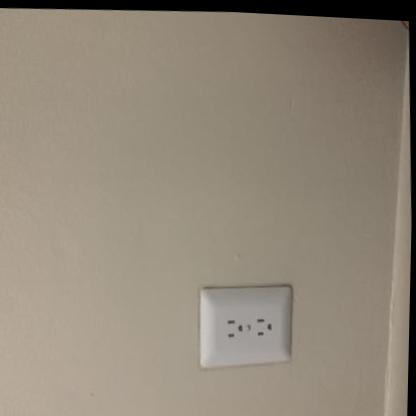OUTLET: (198, 283, 291, 370)
